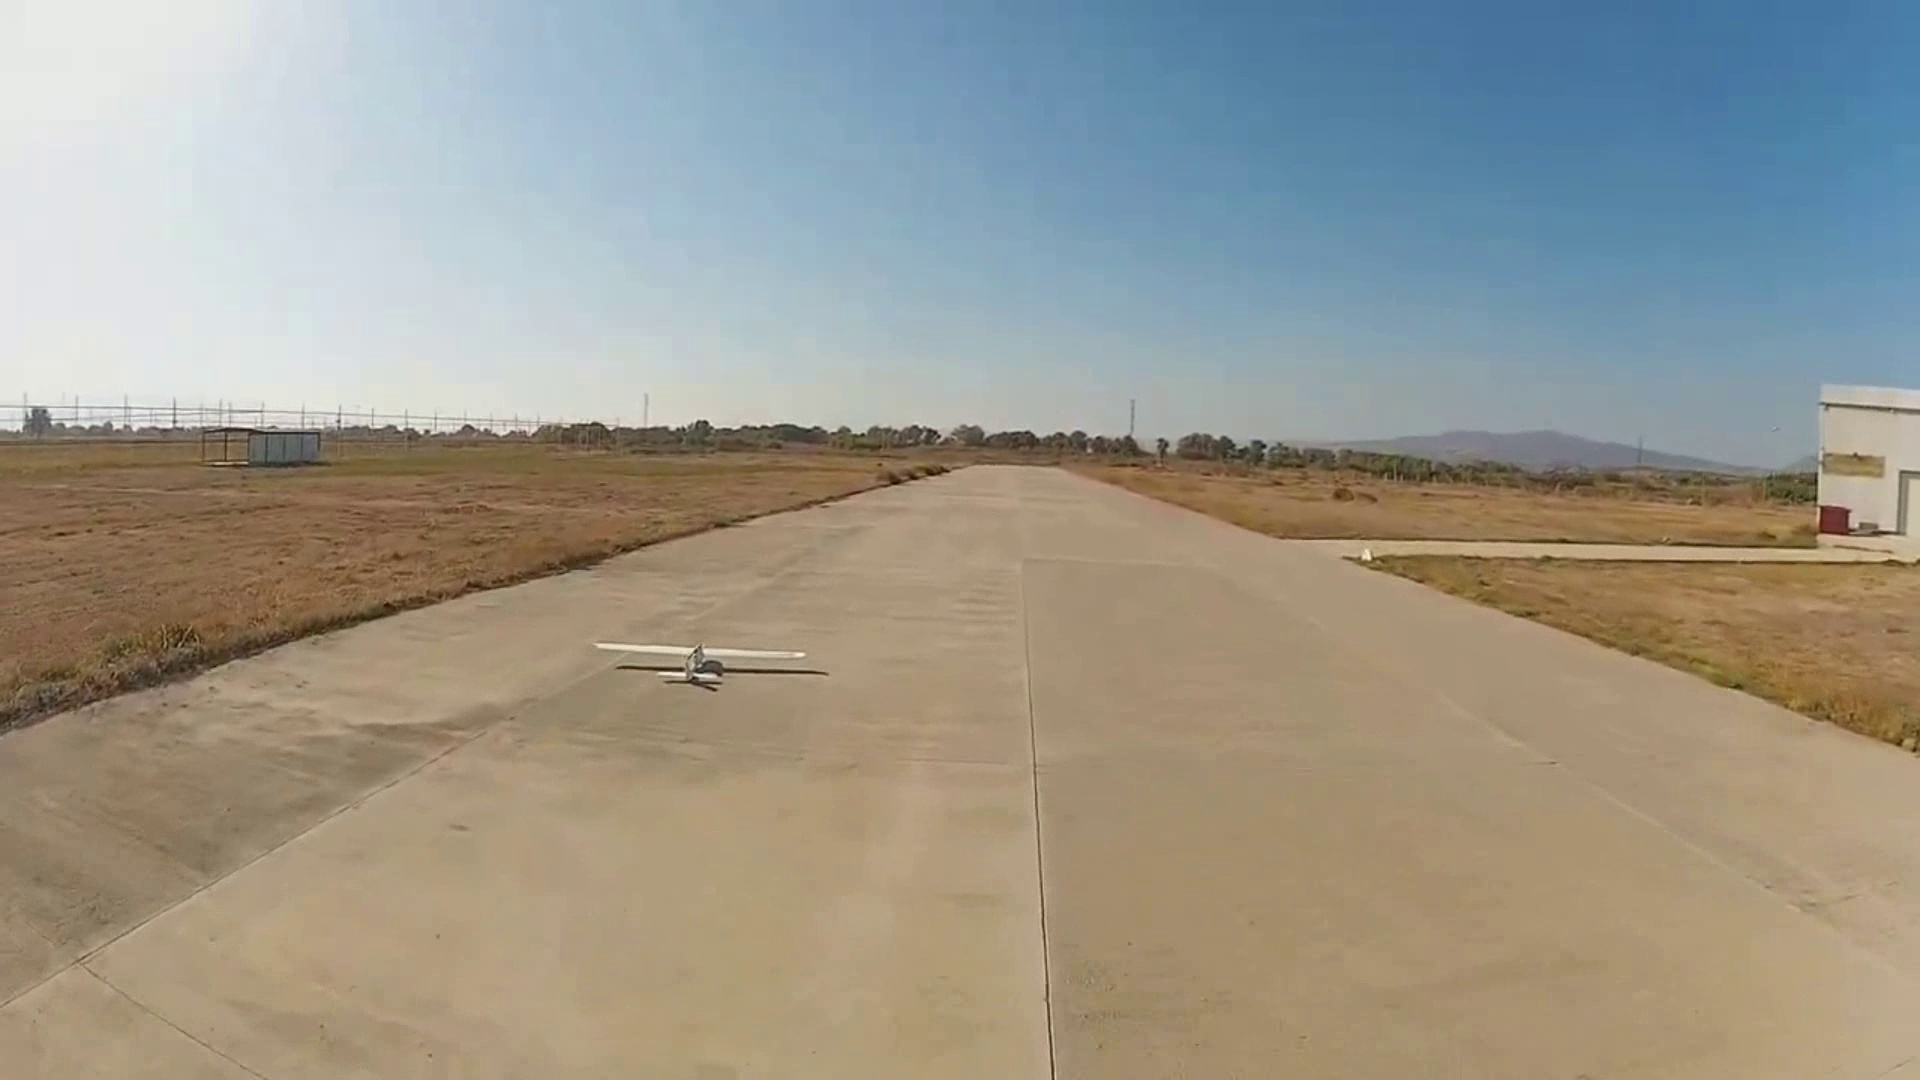airplane: (591, 636, 825, 691)
